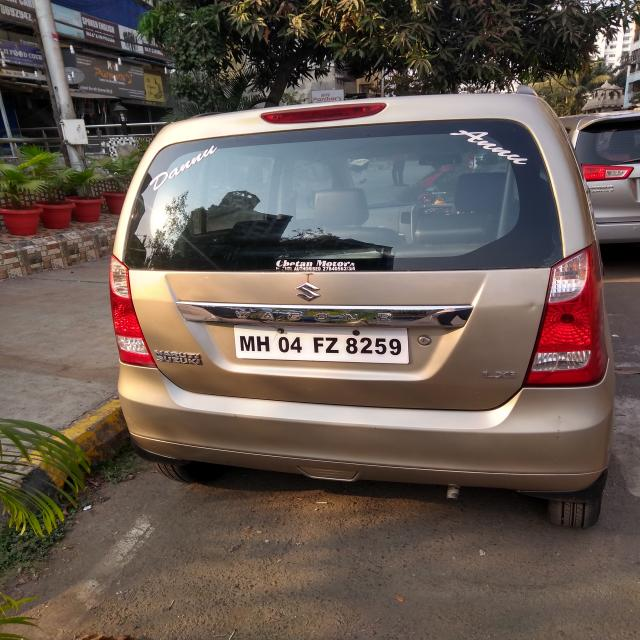Number-Plate: (232, 325, 408, 364)
